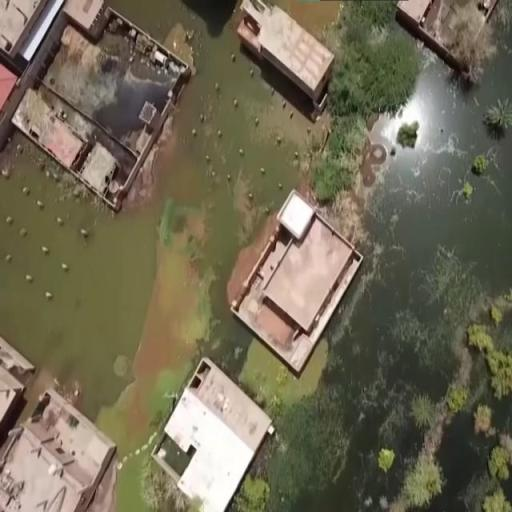flood: (0, 0, 512, 512), (272, 0, 341, 34)
house: (12, 9, 192, 222), (228, 171, 368, 385), (152, 354, 285, 512), (0, 366, 120, 511), (226, 0, 341, 134), (394, 0, 503, 71)
